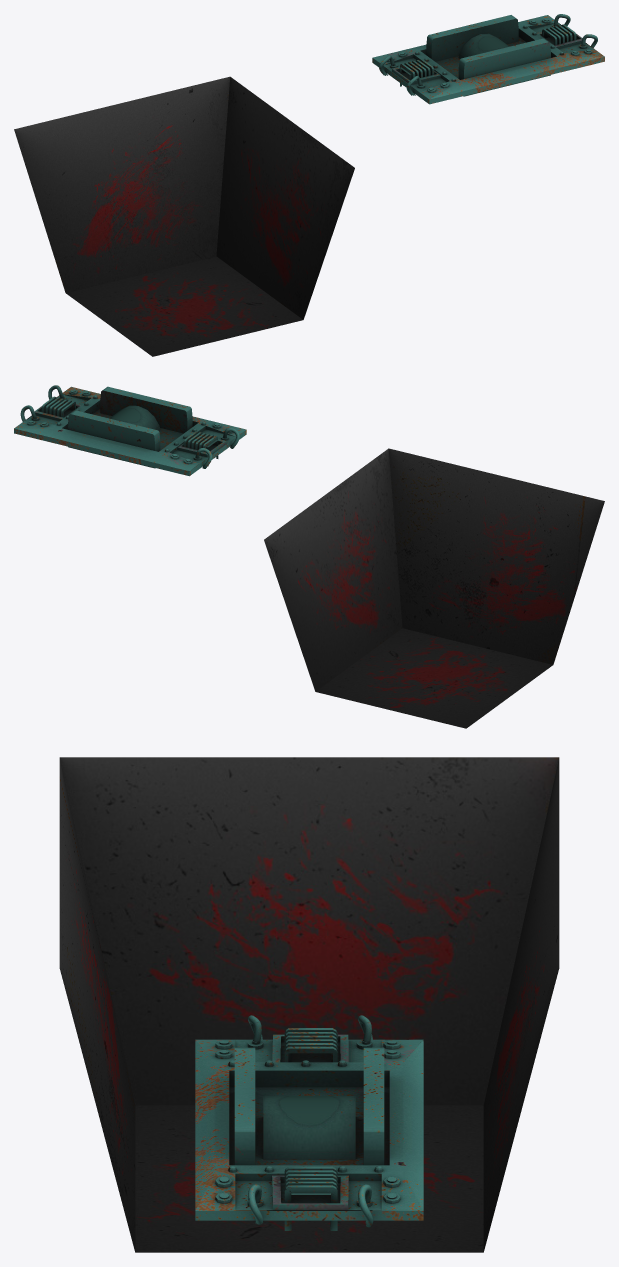
The model's file is basedep.fbx.
3 views of the same model, one above another, from view 1: azimuth 30°, elevation 25°; view 2: azimuth 150°, elevation 25°; view 3: azimuth 270°, elevation 25° (orthographic). The views are drawn at different scales.
Parts seen in each view (by area): view 1: pasted__pCube7, pasted__polySurface82; view 2: pasted__pCube7, pasted__polySurface82; view 3: pasted__pCube7, pasted__polySurface82.
Boxes of the visible parts, <box> form: pasted__pCube7: <box>14,76,354,356</box>; pasted__polySurface82: <box>372,14,604,104</box>; pasted__pCube7: <box>264,448,604,728</box>; pasted__polySurface82: <box>14,385,246,476</box>; pasted__pCube7: <box>59,757,559,1252</box>; pasted__polySurface82: <box>195,1015,423,1230</box>.
Bounding box in the file's own units: 22.15 × 8.08 × 9.44.
